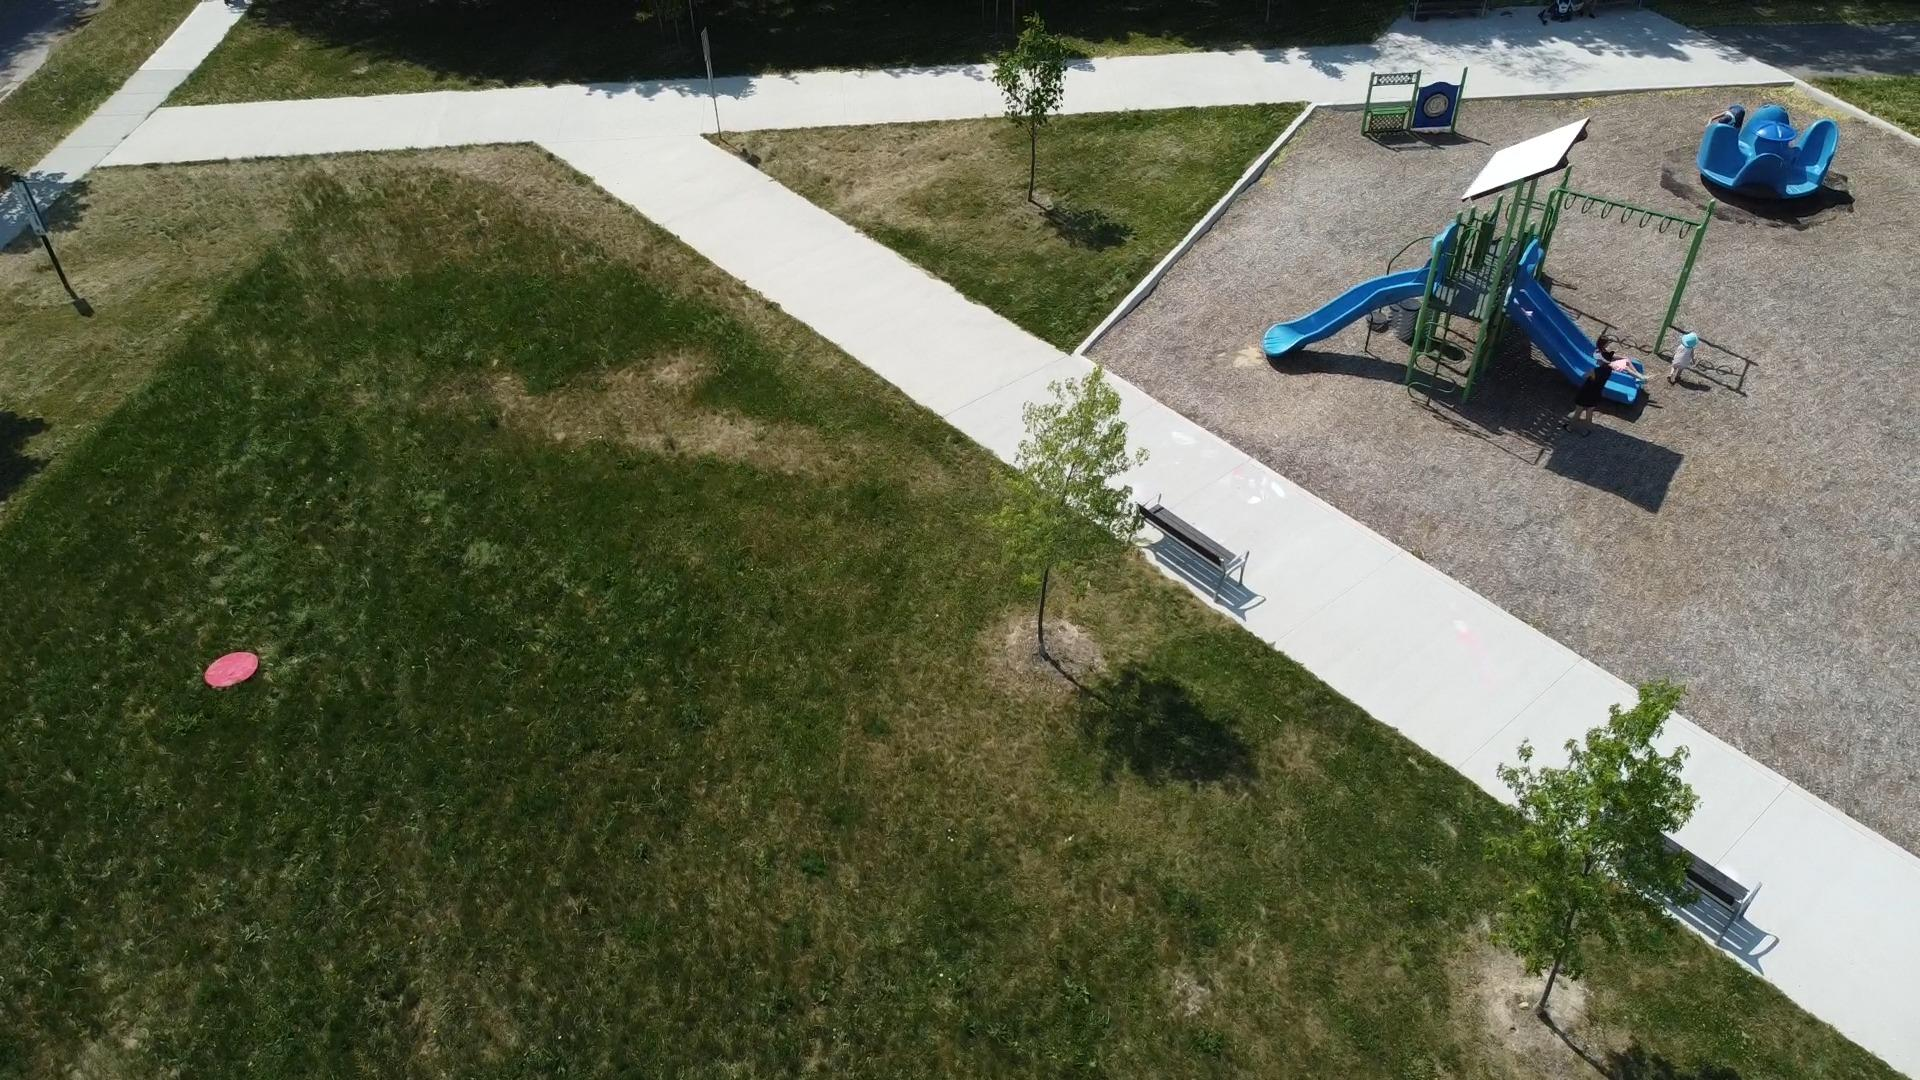Red: (203, 646, 261, 692)
